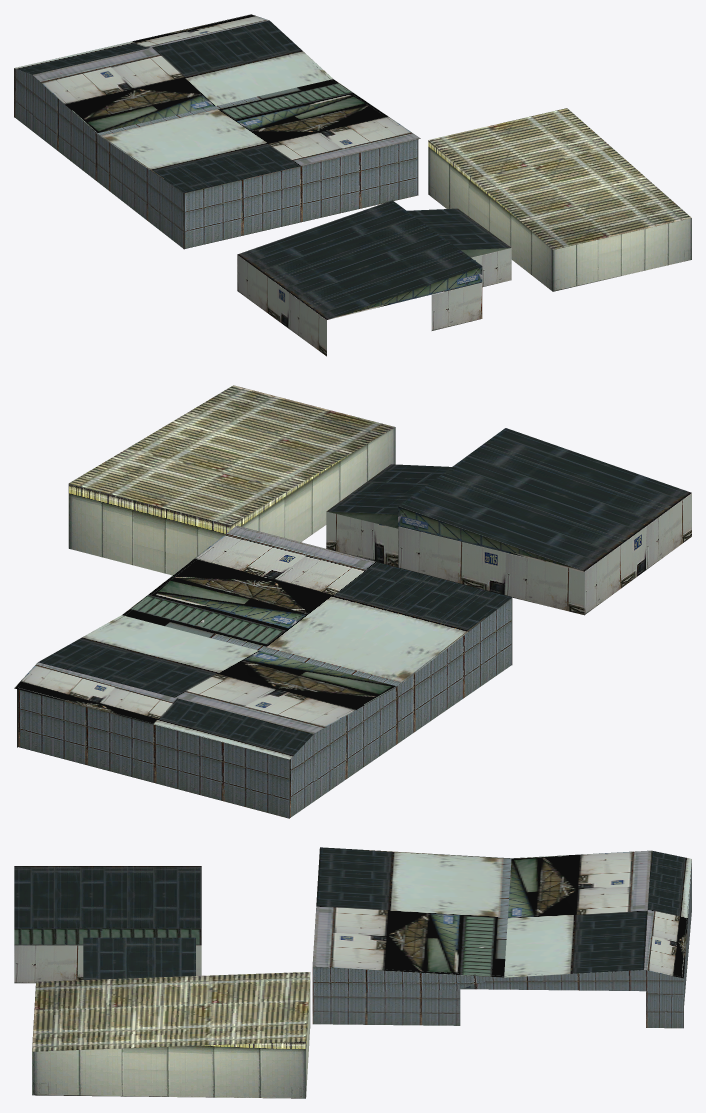
File: fnahangars.gltf
3 views of the same model, one above another, from view 1: azimuth 30°, elevation 25°; view 2: azimuth 150°, elevation 25°; view 3: azimuth 270°, elevation 25° (orthographic). The views are drawn at different scales.
Parts seen in each view (by area): view 1: node1, node2; view 2: node1, node2; view 3: node1, node2.
Part boxes in pixels (bbox=[...]): node1: bbox=[14, 14, 511, 356]; node2: bbox=[428, 108, 691, 291]; node1: bbox=[14, 428, 691, 818]; node2: bbox=[68, 385, 395, 575]; node1: bbox=[14, 847, 691, 1028]; node2: bbox=[32, 972, 310, 1098].
Size of the model in its own units: 48.96 by 7.03 by 72.32.
